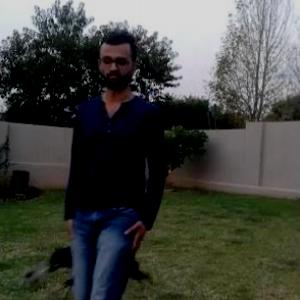follow: (64, 36, 157, 299)
